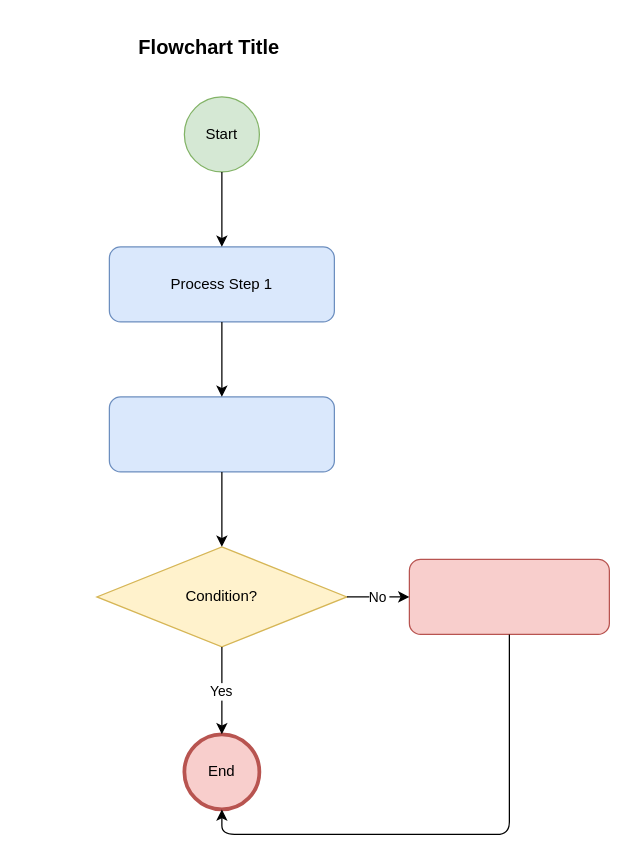
The diagram is 631 pixels wide and 866 high, and some of its shapes have lost their labels. Here are the shapes that lost their labels. From the top down, the centre of each, then its label:
At pixel 221 434: "Process Step 2".
At pixel 508 596: "Handle Error".
